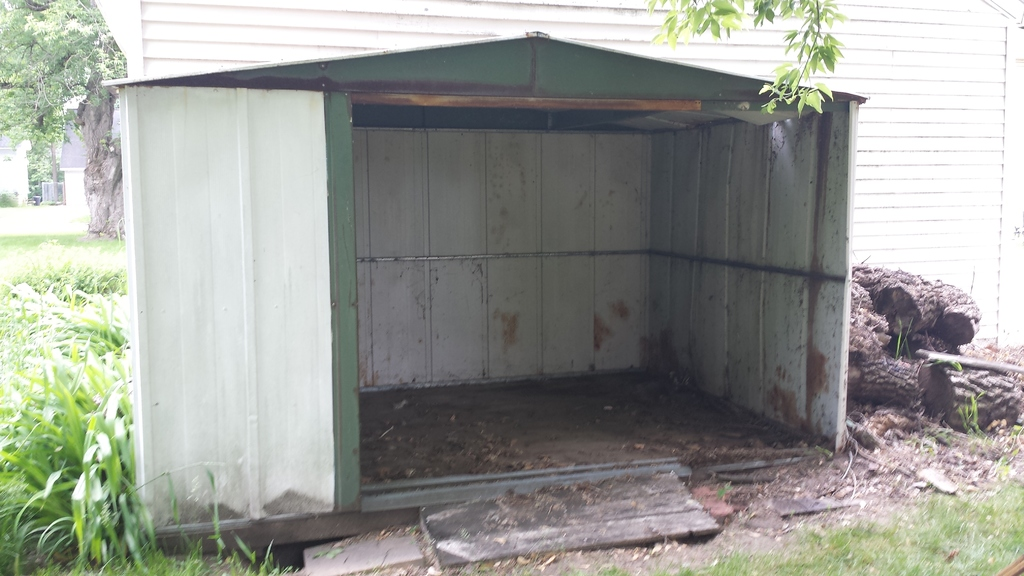Tree: (0, 0, 127, 236)
